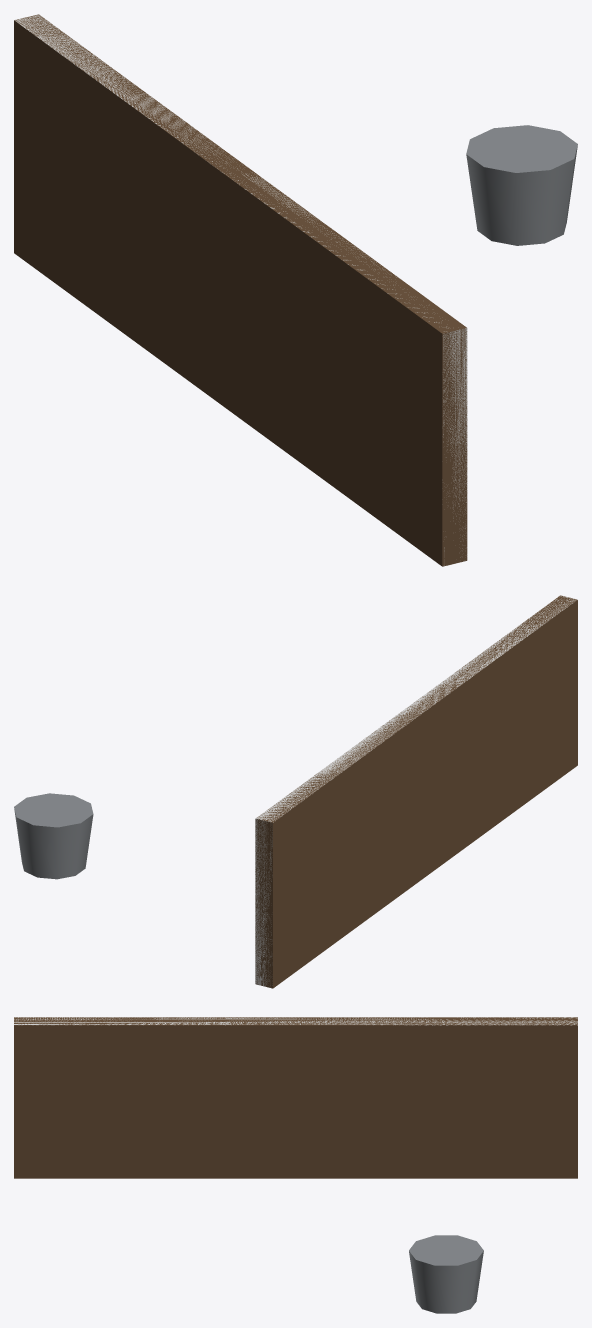
Rendered from booth-4-extra.glb.
The picture shows the model from 3 angles, top to bottom: view 1: azimuth 30°, elevation 25°; view 2: azimuth 150°, elevation 25°; view 3: azimuth 270°, elevation 25°; orthographic projection. The views are drawn at different scales.
Visible parts, largest first — view 1: 00_#6a5038, 01_#8a8e92_r110, solid; view 2: 00_#6a5038, solid, 01_#8a8e92_r110; view 3: 00_#6a5038, 01_#8a8e92_r110, solid.
Part boxes in pixels (box(x1,y1,x2,y2)): 00_#6a5038: box(14, 14, 467, 566); 01_#8a8e92_r110: box(466, 125, 577, 245); solid: box(14, 14, 467, 565); 00_#6a5038: box(255, 595, 577, 988); solid: box(255, 596, 577, 987); 01_#8a8e92_r110: box(14, 793, 93, 879); 00_#6a5038: box(14, 1017, 577, 1178); 01_#8a8e92_r110: box(409, 1235, 483, 1313); solid: box(14, 1017, 577, 1025).
Size of the model in its own units: 1.84 by 0.9 by 3.
